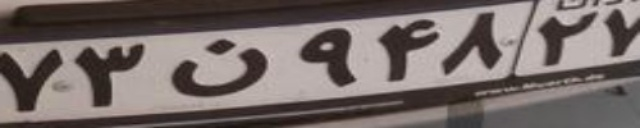2: (538, 11, 592, 67)
3: (73, 43, 141, 108)
4: (378, 18, 438, 82)
7: (0, 48, 59, 113), (604, 8, 637, 57)
8: (444, 12, 505, 74)
9: (298, 27, 358, 88)
non: (169, 38, 268, 97)
